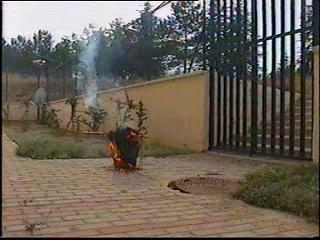fire: (108, 142, 121, 162)
smoke: (81, 34, 99, 111)
